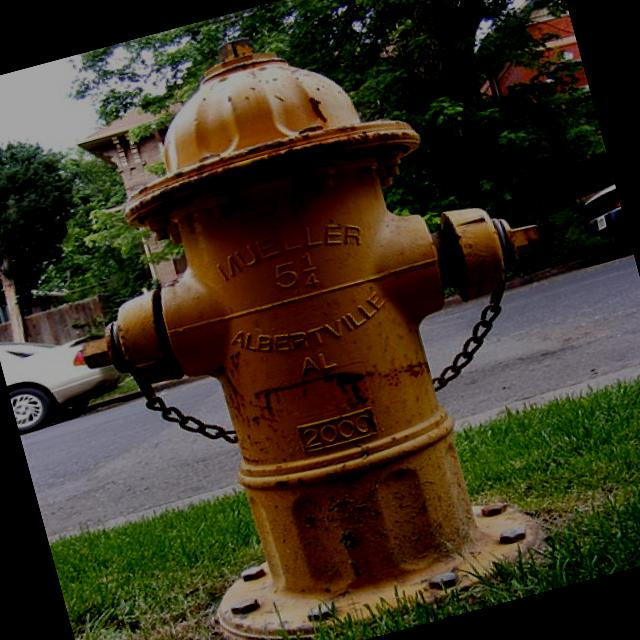Vehicle: (0, 314, 120, 429), (576, 182, 634, 264)
